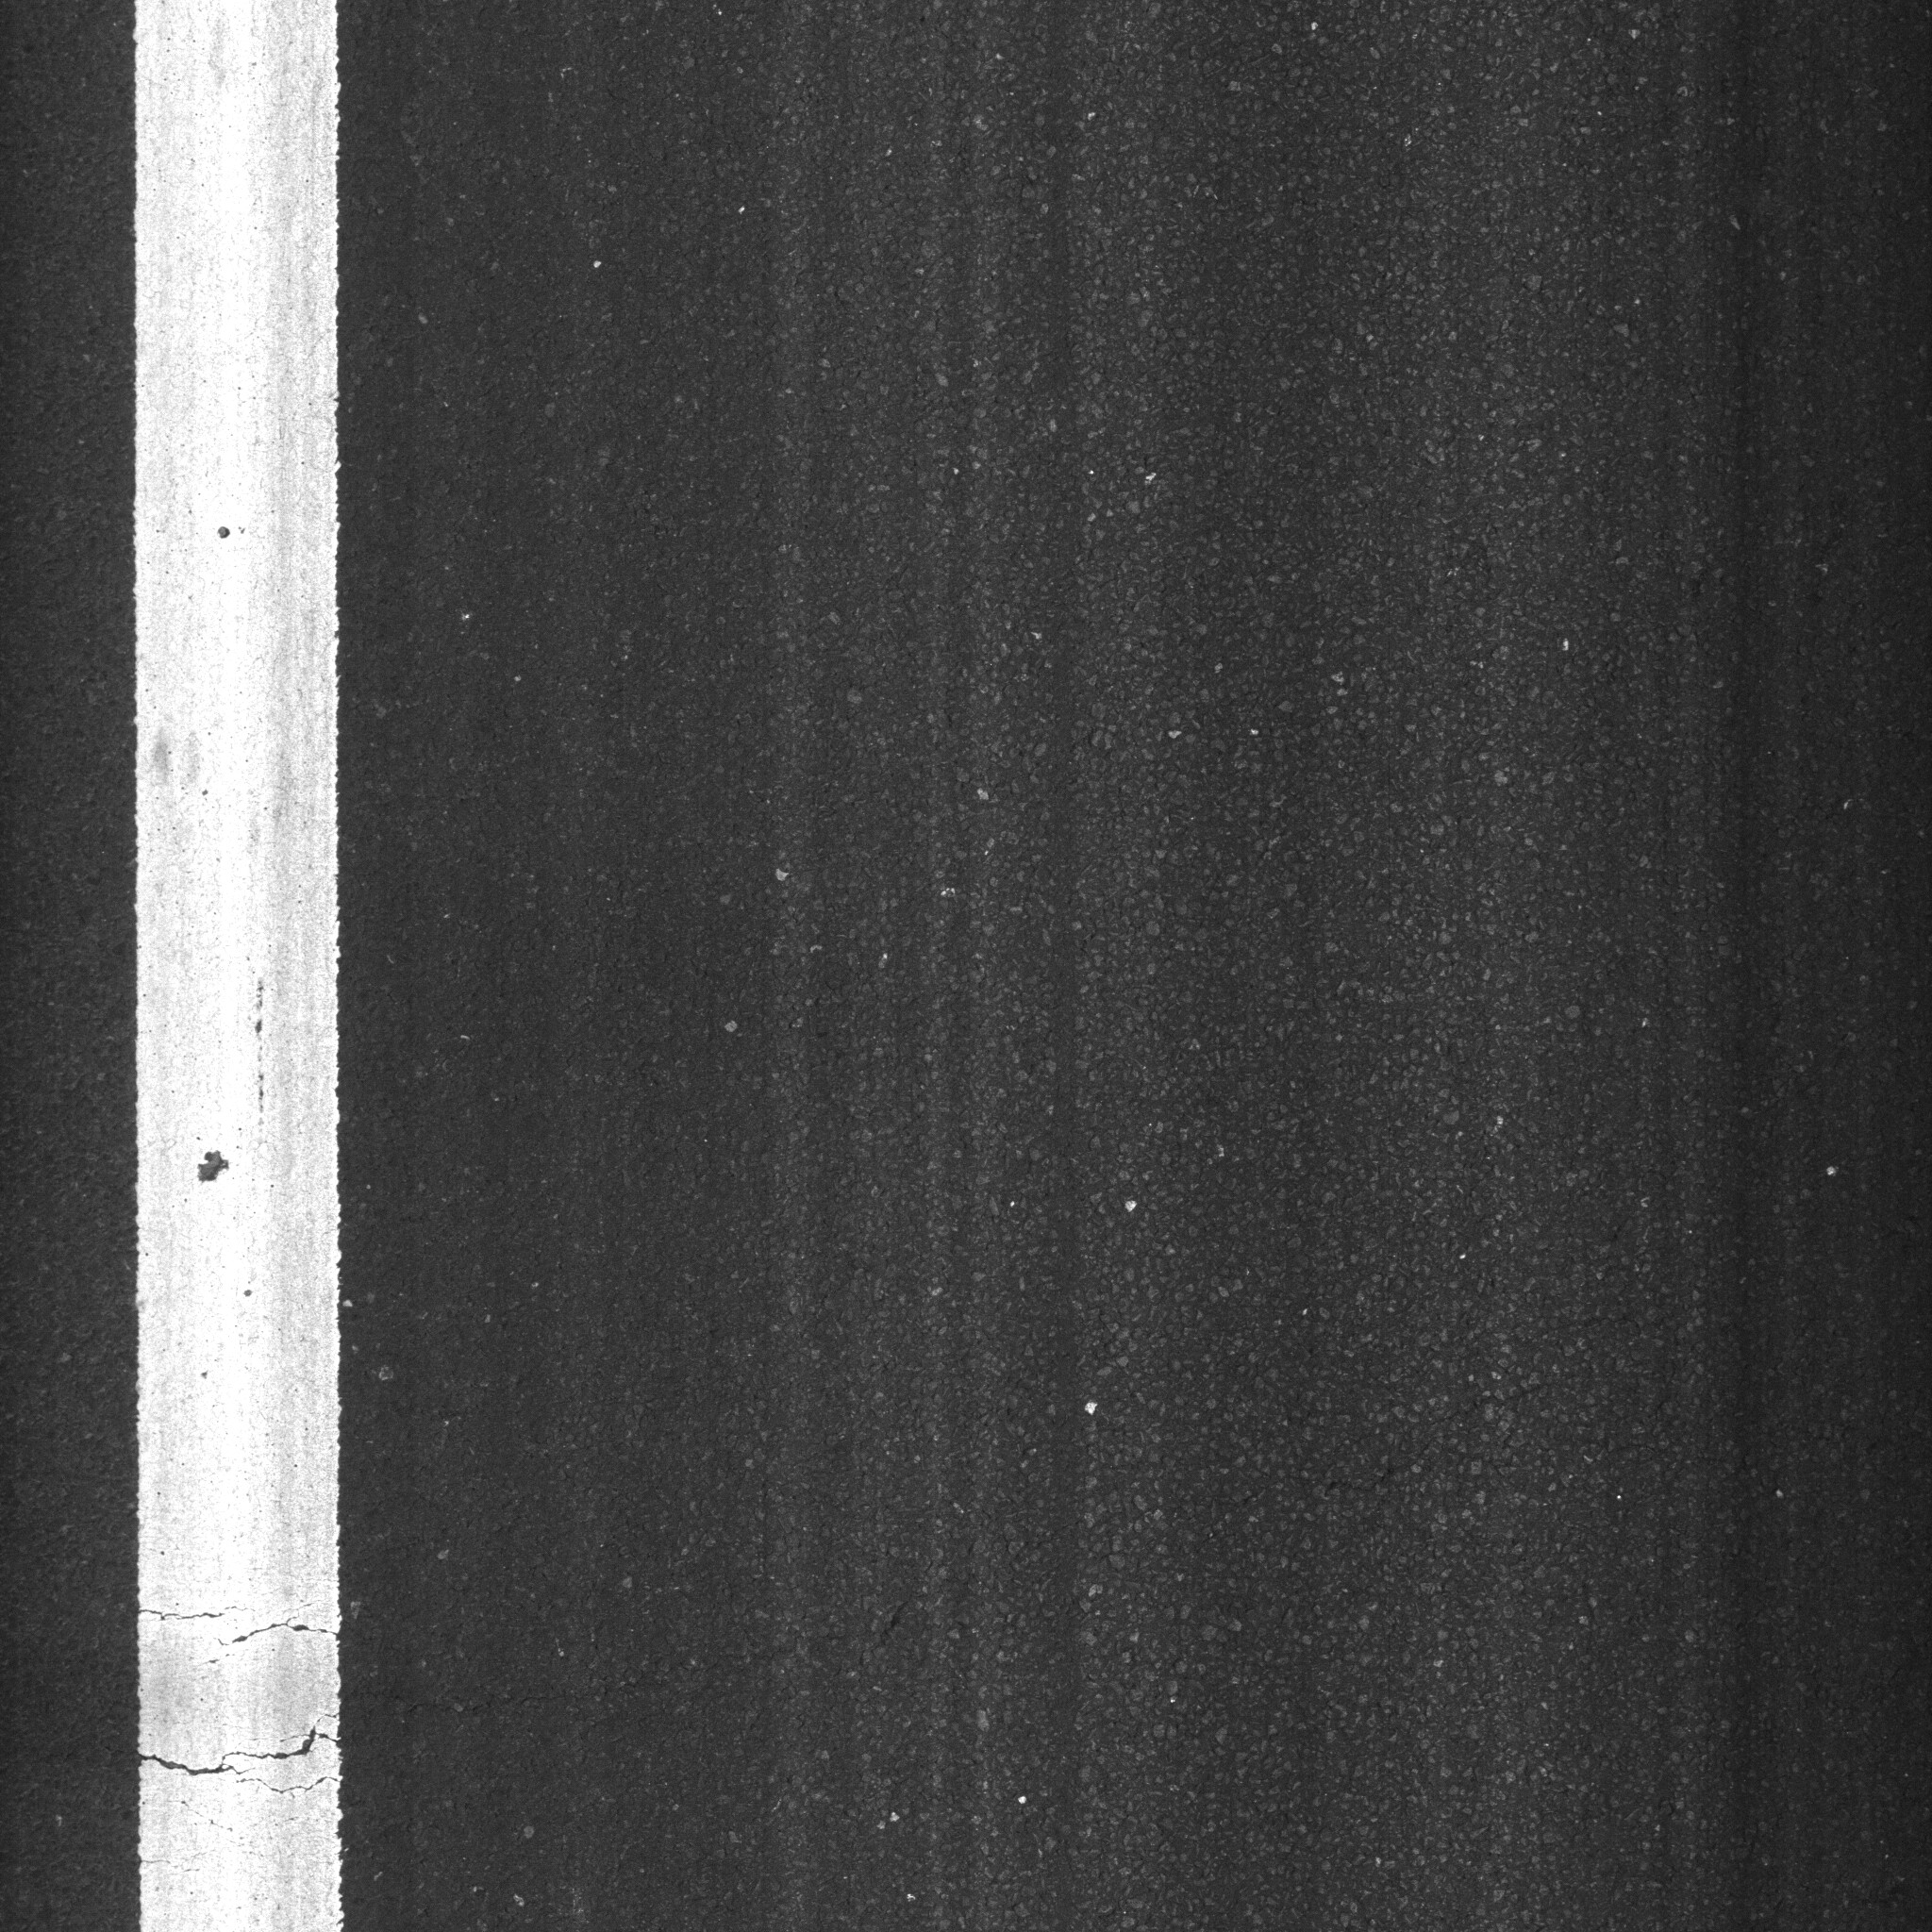transeverse: (134, 1698, 345, 1815), (138, 1592, 395, 1667)
